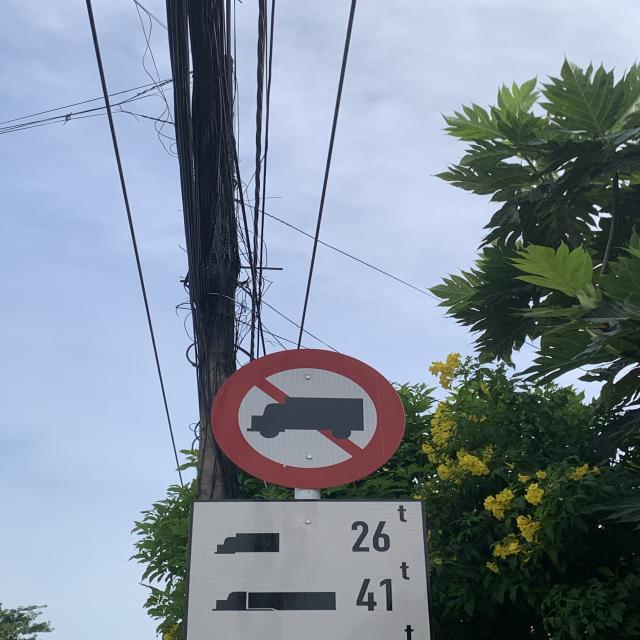Cam_Xe_Tai: (212, 347, 404, 493)
